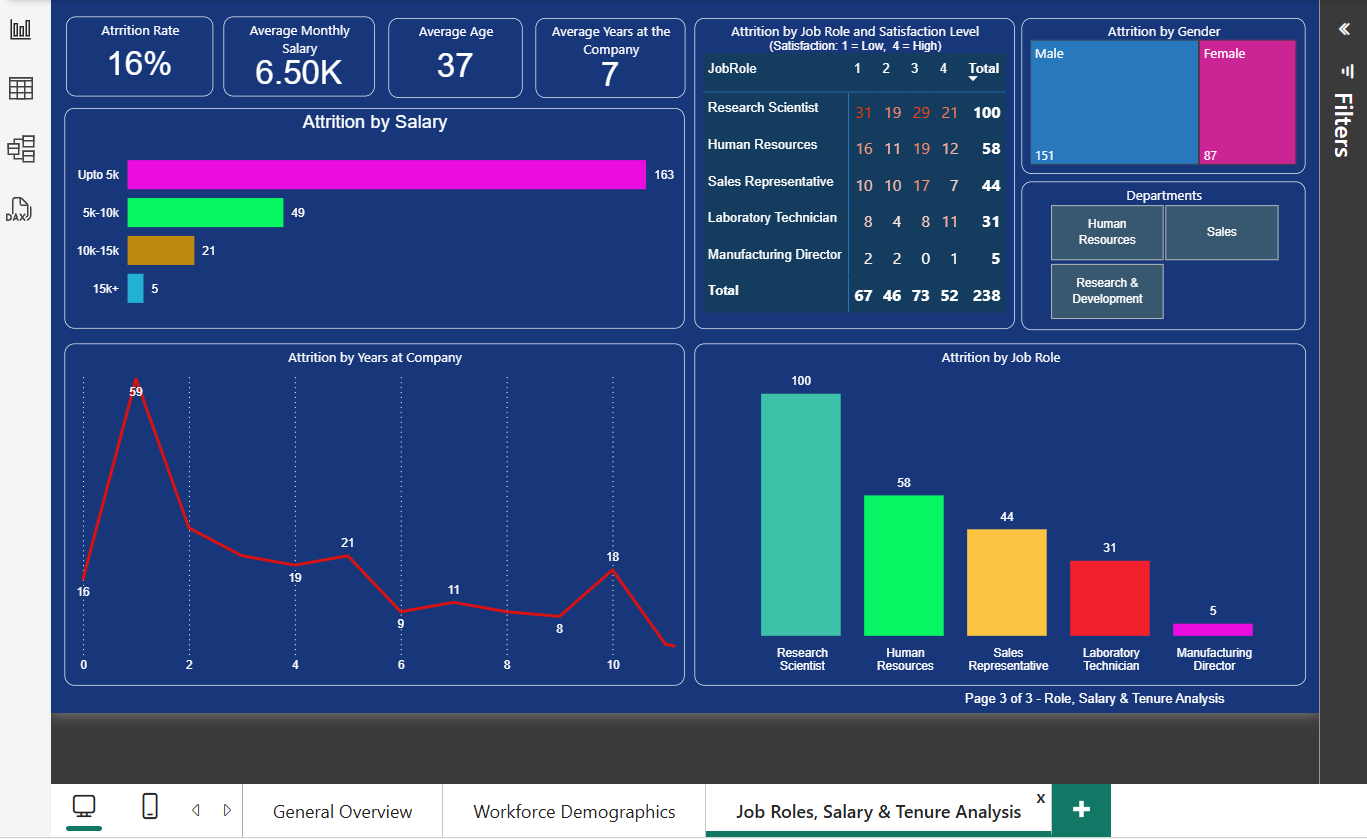

The dashboard page shown, as its layout file describes it:
{"tool":"powerbi","page":{"name":"Job Roles, Salary & Tenure Analysis","canvas":[1280,720],"ordinal":2},"visuals":[{"type":"pivotTable","title":"Attrition by Job Role and Satisfaction Level","fields":{"Rows":["Jobs.JobRole"],"Values":["Sum(HR_Data.Attriction_Count)"],"Columns":["HR_Data.JobSatisfaction"]},"box":[649.1,18.2,323.2,314.1],"z":0},{"type":"columnChart","title":"Attrition by Job Role","fields":{"Category":["Jobs.JobRole"],"Y":["Sum(HR_Data.Attriction_Count)"]},"box":[649.1,346.5,617.7,345.6],"z":1000},{"type":"barChart","title":"Attrition by Salary","fields":{"Category":["HR_Data.SalarySlab"],"Y":["Sum(HR_Data.Attriction_Count)"]},"box":[14.4,109.5,625.7,222.6],"z":2000},{"type":"lineChart","title":"Attrition by Years at Company","fields":{"Category":["HR_Data.YearsAtCompany"],"Y":["Sum(FactHR_Data.Attriction_Count)"]},"box":[14.4,346.5,625.7,345.6],"z":3000},{"type":"card","title":"Atrrition Rate","fields":{"Values":["HR_Data.Attriction_Rate"]},"box":[14.5,17.2,148.9,80.8],"z":5000},{"type":"treemap","title":"Attrition by Gender","fields":{"Group":["HR_Data.Gender"],"Values":["Sum(HR_Data.Attriction_Count)"]},"box":[979.5,18.2,286.9,157],"z":6000},{"type":"slicer","title":"Departments","fields":{"Values":["Departments.Department"]},"box":[979.5,182.5,286.9,149.8],"z":7000},{"type":"card","title":"Average Monthly Salary","fields":{"Values":["Avg(HR_Data.MonthlyIncome)"]},"box":[174.3,17.2,152.5,80.8],"z":9000},{"type":"textbox","box":[917.5,692.2,289.1,27.8],"z":10000},{"type":"card","title":"Average Age","fields":{"Values":["Avg(HR_Data.Age)"]},"box":[340.4,18.2,135.3,80.8],"z":11000},{"type":"card","title":"Average Years at the Company","fields":{"Values":["Avg(HR_Data.YearsAtCompany)"]},"box":[488.4,18.2,151.6,80.8],"z":12000}]}

Visuals, with their boxes on the page's 1280x720 design canvas (x1, y1, x2, y2). These are canvas units, not pixel positions in the 1367x839 screenshot, which may show the page scaled, cropped or inside an application window:
"Attrition by Job Role and Satisfaction Level" pivotTable: <bbox>649, 18, 972, 332</bbox>
"Attrition by Job Role" columnChart: <bbox>649, 346, 1267, 692</bbox>
"Attrition by Salary" barChart: <bbox>14, 110, 640, 332</bbox>
"Attrition by Years at Company" lineChart: <bbox>14, 346, 640, 692</bbox>
"Atrrition Rate" card: <bbox>14, 17, 163, 98</bbox>
"Attrition by Gender" treemap: <bbox>980, 18, 1266, 175</bbox>
"Departments" slicer: <bbox>980, 182, 1266, 332</bbox>
"Average Monthly Salary" card: <bbox>174, 17, 327, 98</bbox>
textbox: <bbox>918, 692, 1207, 720</bbox>
"Average Age" card: <bbox>340, 18, 476, 99</bbox>
"Average Years at the Company" card: <bbox>488, 18, 640, 99</bbox>
